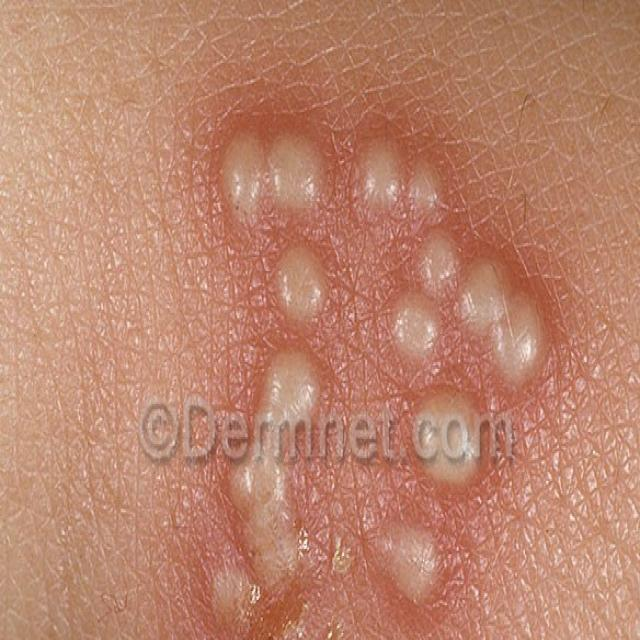Viral Infections: (131, 66, 597, 640)
